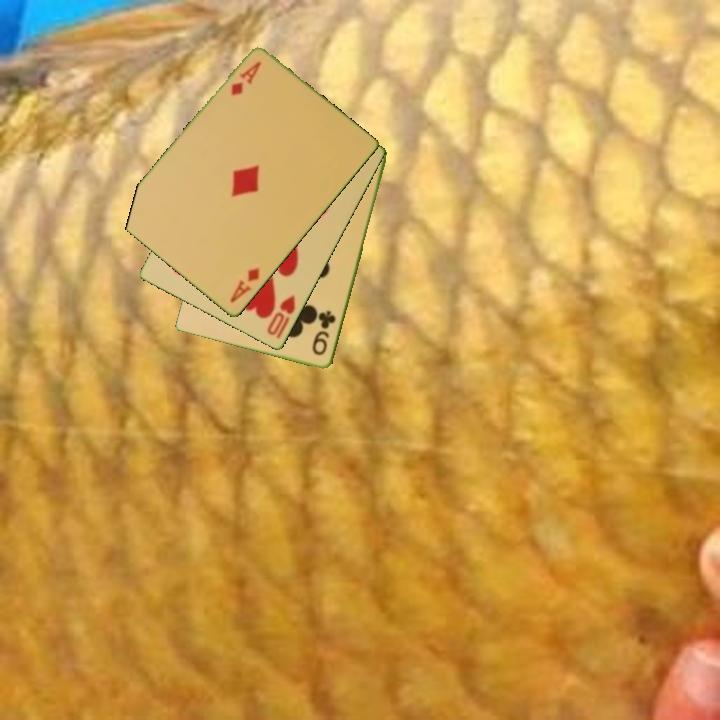10h: (263, 292, 298, 342)
9c: (309, 307, 339, 359)
Ad: (226, 264, 263, 306), (227, 58, 264, 99)
